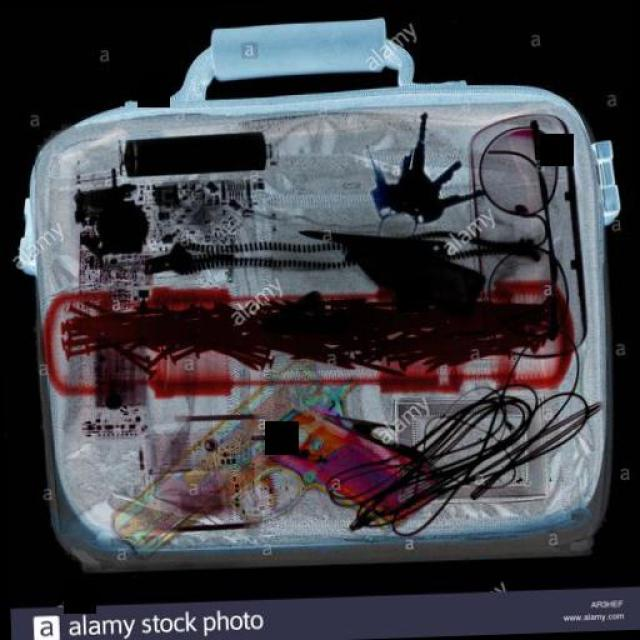gun: (101, 349, 441, 559)
